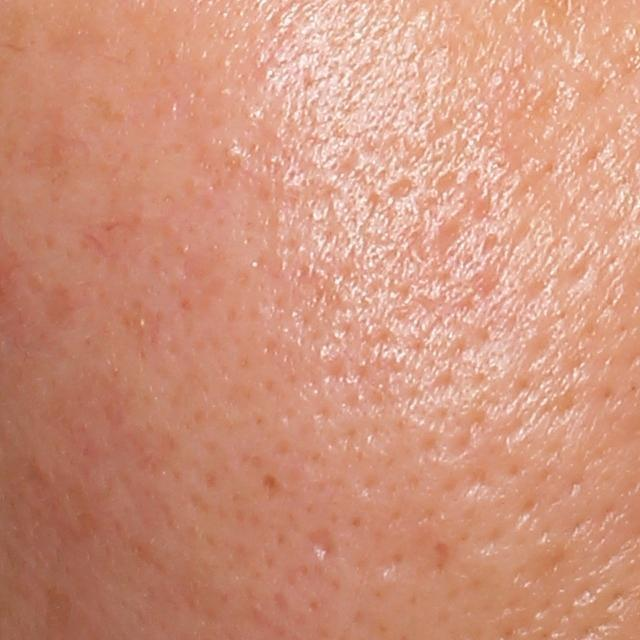atrophic_scar: (410, 171, 485, 267), (299, 526, 336, 570), (378, 172, 415, 203)
